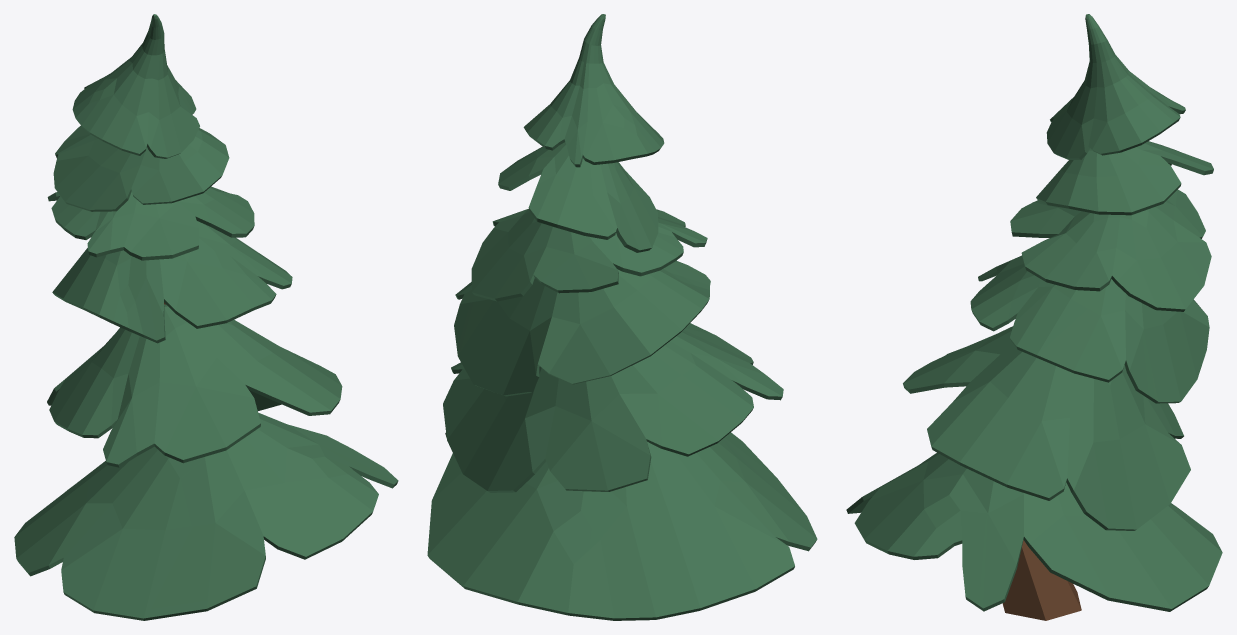
File: pin_2.glb
3 views of the same model, side by side, from view 1: azimuth 30°, elevation 25°; view 2: azimuth 150°, elevation 25°; view 3: azimuth 270°, elevation 25° (orthographic). The views are drawn at different scales.
Visible parts, largest first — view 1: pin_2; view 2: pin_2; view 3: pin_2.
Part boxes in pixels (x1=…): pin_2: x1=14, y1=14, x2=398, y2=620; pin_2: x1=427, y1=14, x2=817, y2=620; pin_2: x1=846, y1=14, x2=1222, y2=620.
Size of the model in its own units: 6.22 by 9.5 by 5.62.
